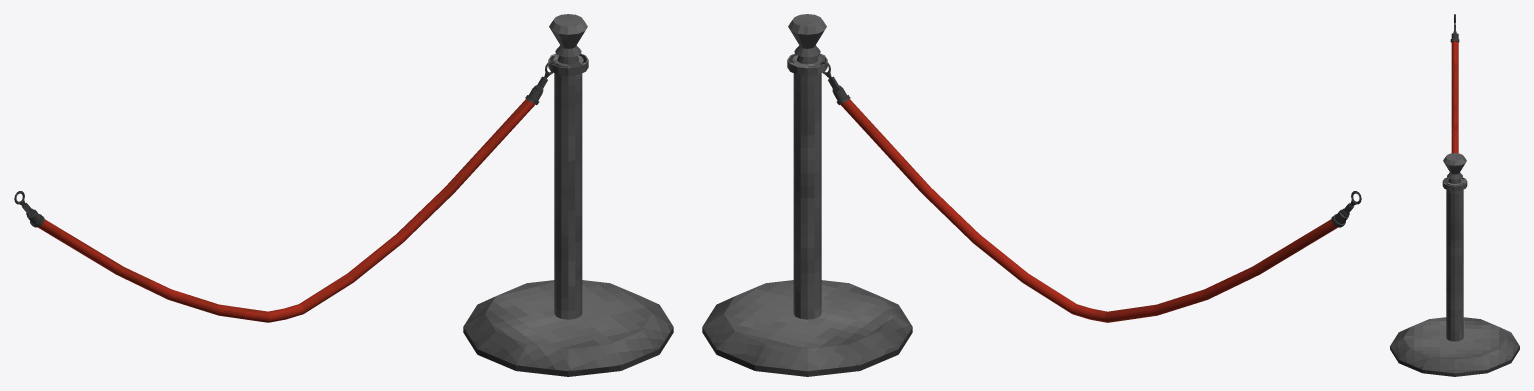
Rendered from OrganizadorFilaTeatro.fbx.
3 renders of one model, left to right at view 1: azimuth 30°, elevation 25°; view 2: azimuth 150°, elevation 25°; view 3: azimuth 270°, elevation 25°, orthographic. The views are drawn at different scales.
Visible parts, largest first — view 1: Cylinder.009; view 2: Cylinder.009; view 3: Cylinder.009.
Boxes of the visible parts, <box> form: Cylinder.009: <box>14,14,673,376</box>; Cylinder.009: <box>702,14,1361,376</box>; Cylinder.009: <box>1390,14,1519,376</box>.
Bounding box in the file's own units: 337 × 156 × 95.24.
